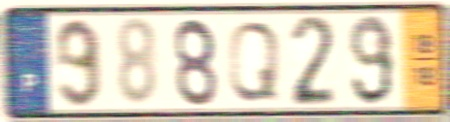2: (288, 13, 337, 109)
8: (172, 15, 219, 109), (113, 14, 159, 110)
9: (347, 12, 397, 108), (53, 16, 103, 110)
Q: (226, 18, 282, 104)
